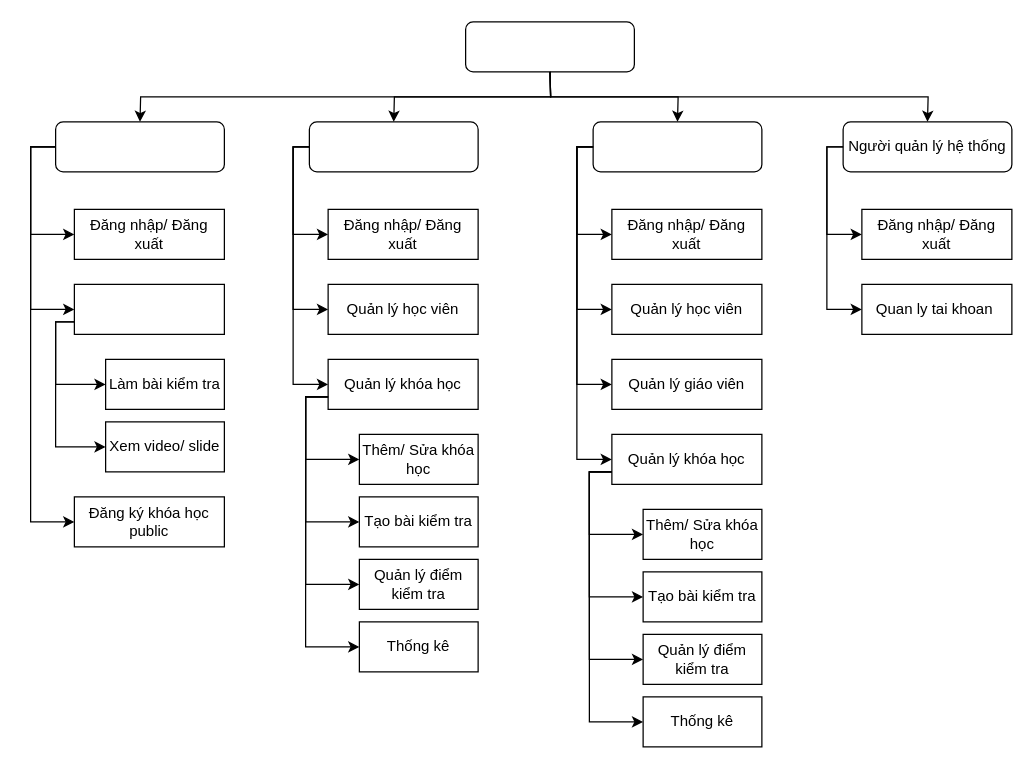
This 1034x769 diagram has some shape labels left out. The shapes that lost their labels are listed below. From the top down, each one's centre as x and y in pixels, then its label:
At [549,46]: "Training Management System".
At [139,146]: "Học viên".
At [393,146]: "Người hướng dẫn".
At [677,146]: "Người quản lý đào tạo".
At [148,308]: "Danh sách khóa học cá nhân".
